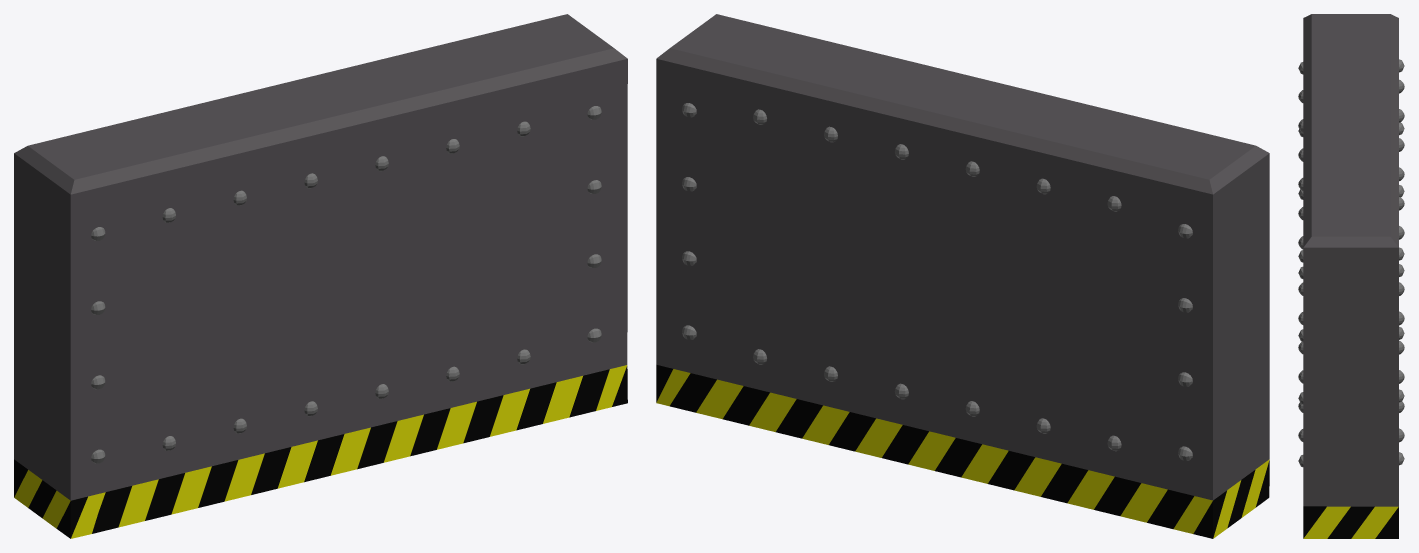
File: MetalWallHalf.glb
The picture shows the model from 3 angles, left to right: view 1: azimuth 30°, elevation 25°; view 2: azimuth 150°, elevation 25°; view 3: azimuth 270°, elevation 25°; orthographic projection. The views are drawn at different scales.
Visible parts, largest first — view 1: Cube.001, Sphere, Sphere.008; view 2: Cube.001, Sphere.007, Sphere.009, Sphere.004, Sphere.005; view 3: Cube.001, Sphere.009, Sphere.007, Sphere.008, Sphere, Sphere.004, Sphere.005, Sphere.003, Sphere.002.
Part boxes in pixels (x1,y1,x2,y2): Cube.001: (14, 14, 627, 538); Sphere: (162, 349, 530, 450); Sphere.008: (162, 121, 530, 222); Cube.001: (656, 14, 1269, 538); Sphere.007: (753, 349, 1121, 451); Sphere.009: (753, 109, 1121, 211); Sphere.004: (682, 103, 696, 339); Sphere.005: (1178, 224, 1192, 460); Cube.001: (1303, 14, 1398, 538); Sphere.009: (1399, 79, 1404, 239); Sphere.007: (1399, 282, 1404, 442); Sphere.008: (1298, 90, 1303, 249); Sphere: (1298, 282, 1303, 441); Sphere.004: (1399, 264, 1404, 465); Sphere.005: (1399, 59, 1404, 260); Sphere.003: (1298, 266, 1303, 467); Sphere.002: (1298, 62, 1303, 262).
Bounding box in the file's own units: 1.92 × 1.16 × 0.3747.
